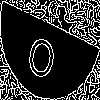O: (25, 25, 60, 82)
